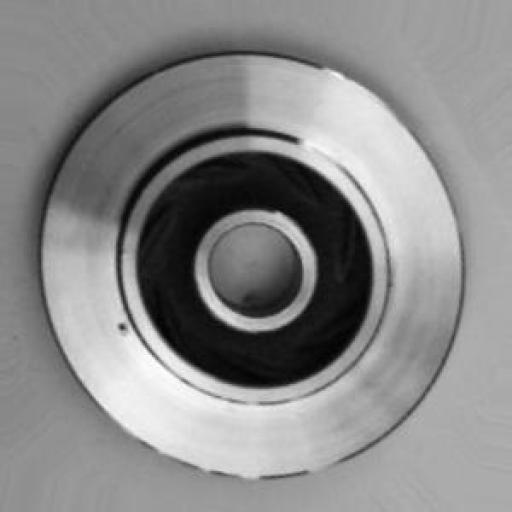defect: (102, 287, 159, 368)
